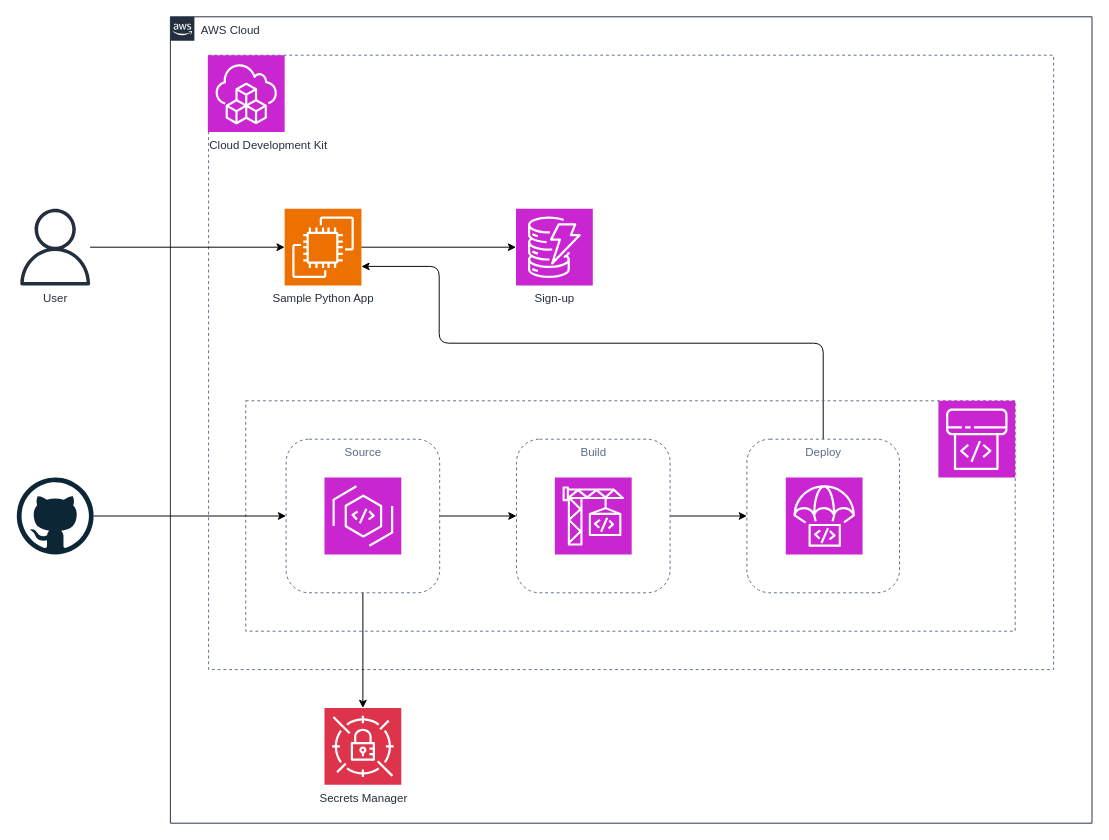
Some shapes in this 1109 by 840 pixel diagram are drawn without their labels. The shapes that lost their labels are listed below. From the top down, each one's centre as x and y in pixels, then its label:
At pixel 976 439: "CodePipeline".
At pixel 55 515: "GitHub".
At pixel 362 515: "CodeArtifact".
At pixel 593 515: "CodeBuild".
At pixel 824 515: "CodeDeploy".
